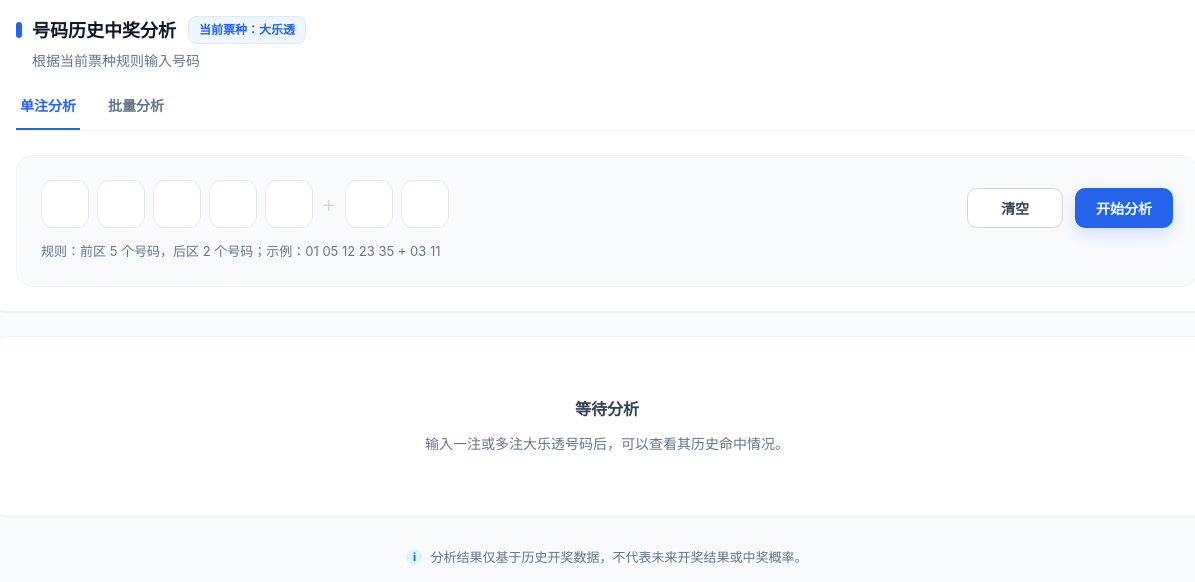
Scenario: AnalyzeTab › removes letters and symbols from single number inputs
The image size is (1195, 582).
Type "a1#2b" into the 1st field with class "number-input".
click(65, 204); type("a1#2b")  # box [41,180,89,228]
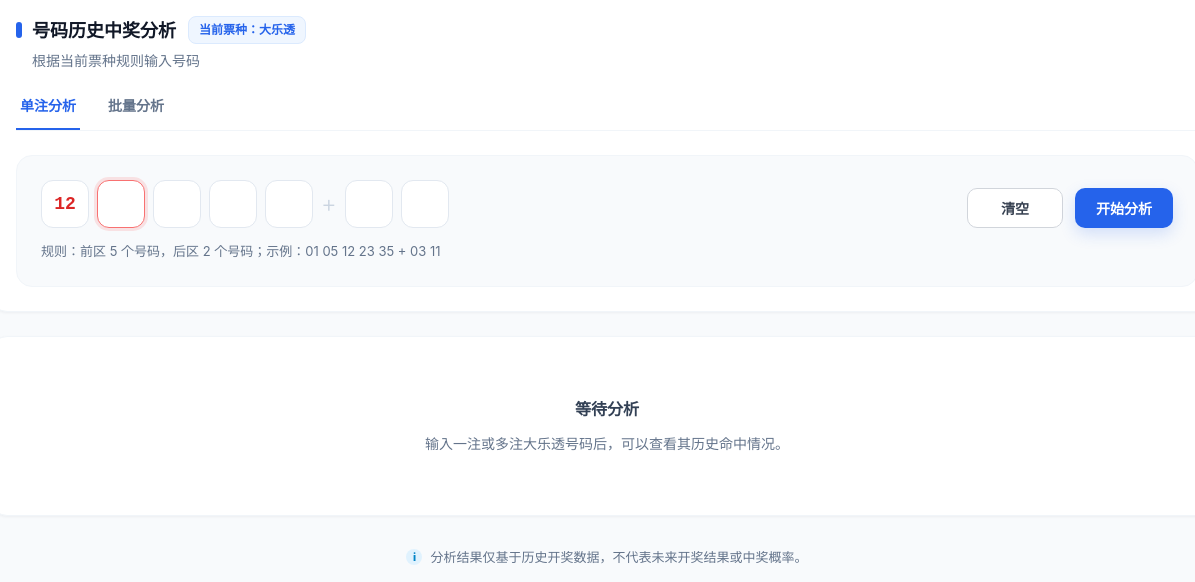
Check: the 1st field with class "number-input" holds "12", box [41,180,89,228]
